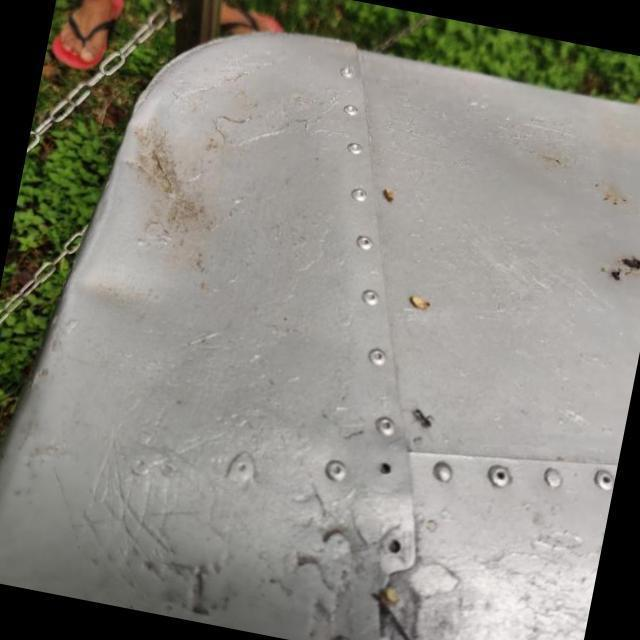Dent: (50, 221, 187, 345)
